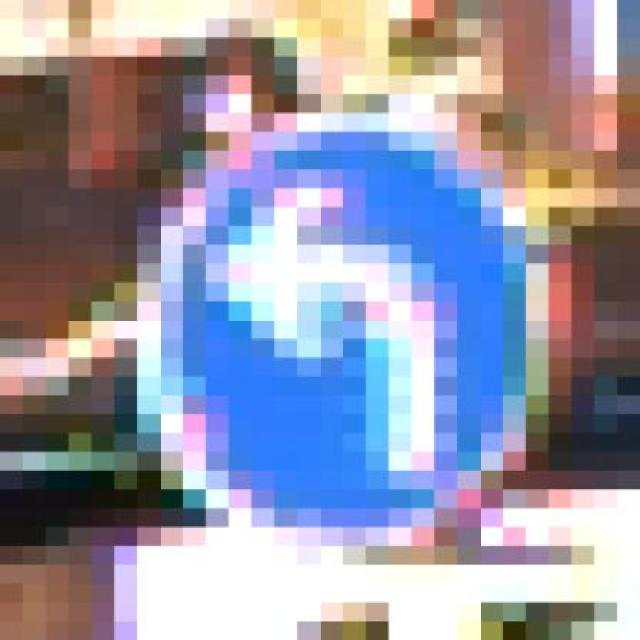Turn left ahead: (91, 132, 572, 546)
